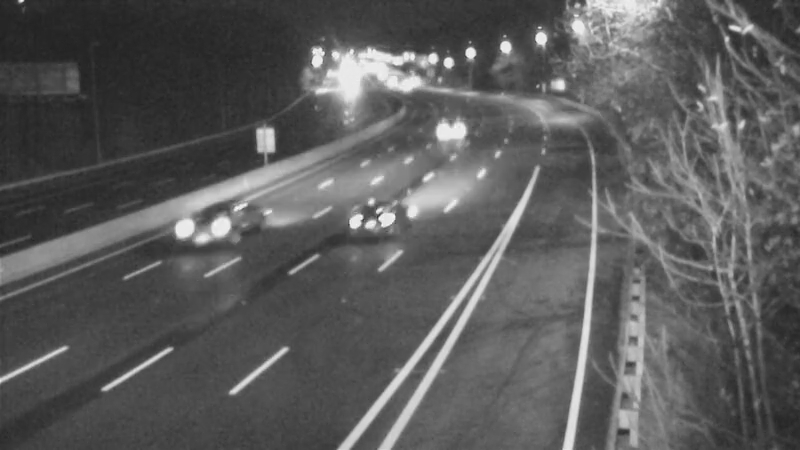vehicle: (332, 183, 412, 263), (168, 193, 248, 273), (425, 106, 475, 156)
